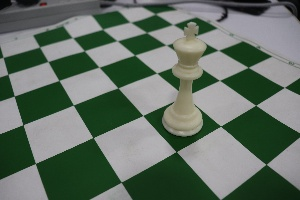white_king: (158, 8, 216, 145)
